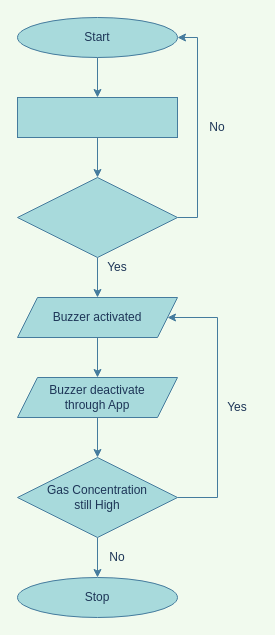
Some shapes in this 275 by 635 pixel diagram are drawn without their labels. Each missing label, with the centre of its shape:
"Gas Concentration Greater than 200ppm" belongs at [97,217].
"Gas Sensing" belongs at [97,117].
